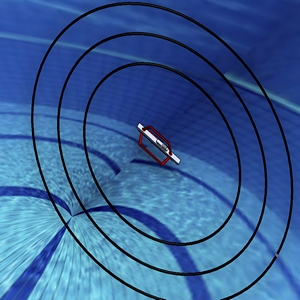circle: (13, 1, 298, 299)
submarine: (129, 117, 184, 175)
